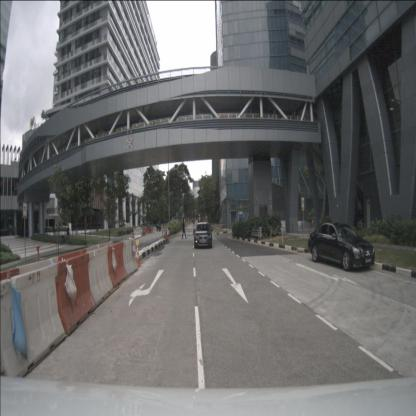barrier: (0, 264, 66, 384), (56, 253, 95, 336), (88, 247, 115, 306), (107, 241, 128, 289), (122, 238, 138, 276)
cone: (134, 247, 142, 267)
